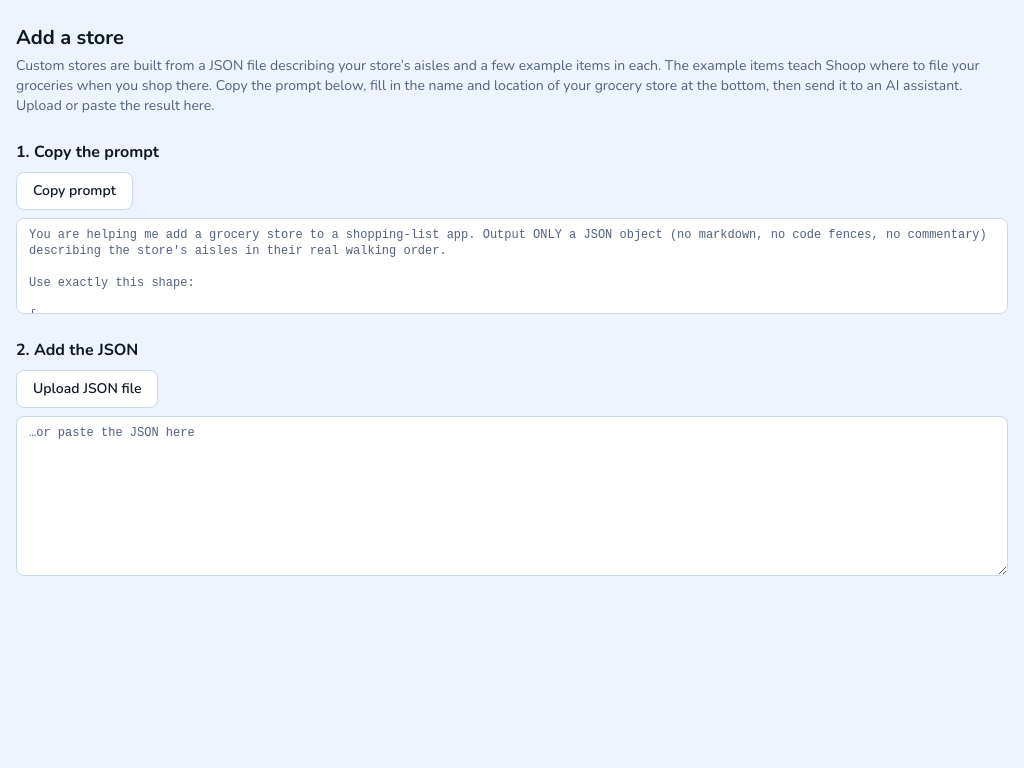
Test case: StoreImporter › copies the prompt to the clipboard
Step 1. Click the button "Copy prompt" → x=74, y=191, box [16, 172, 133, 210]
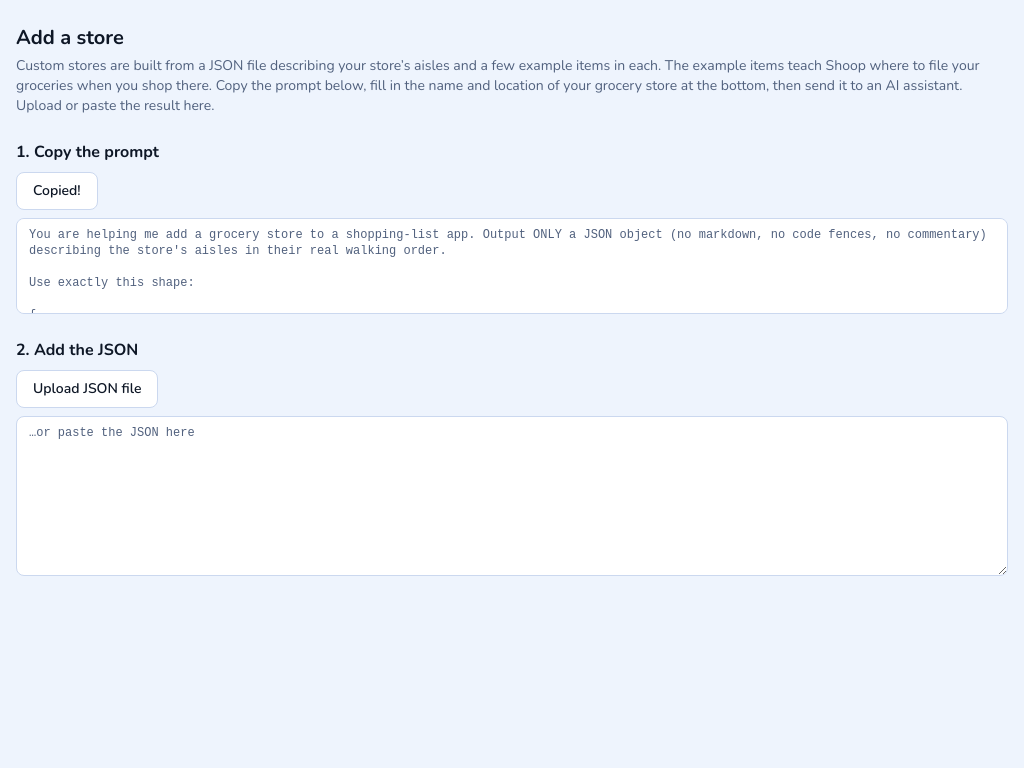
Expected: the button "Copied!" is shown, [16, 172, 98, 210]
